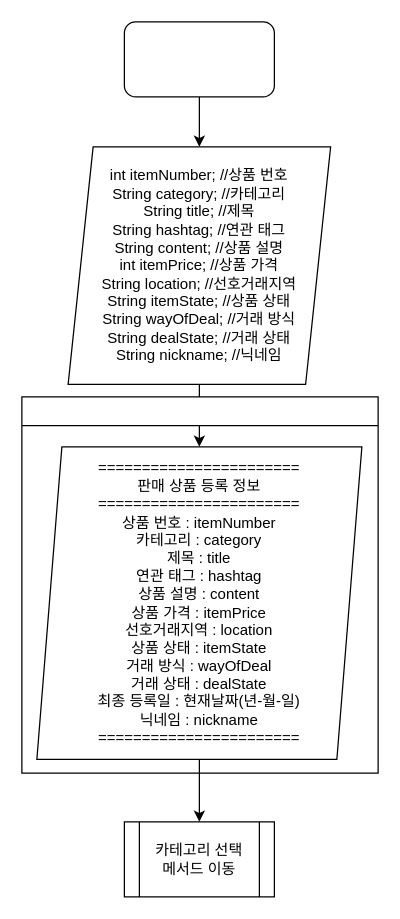
This 400x919 diagram has some shape labels left out. Here are the shapes that lost their labels. From the top down, the centre of each, then its label:
the point at 198,59: 3-1-2. 판매하기 메서드 진입
the point at 199,584: 고정 출력물
